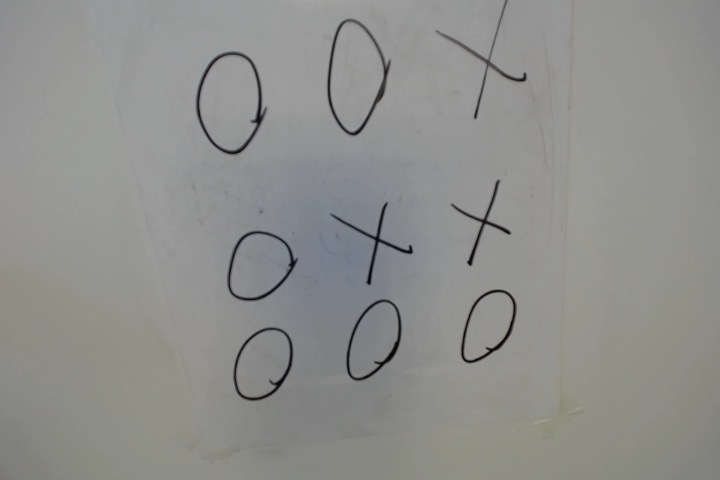0: (189, 51, 272, 163), (324, 16, 394, 142), (226, 223, 298, 304), (342, 296, 406, 385), (232, 323, 296, 404), (458, 286, 518, 366)
x: (438, 2, 526, 115), (334, 194, 421, 290), (450, 182, 509, 263)
